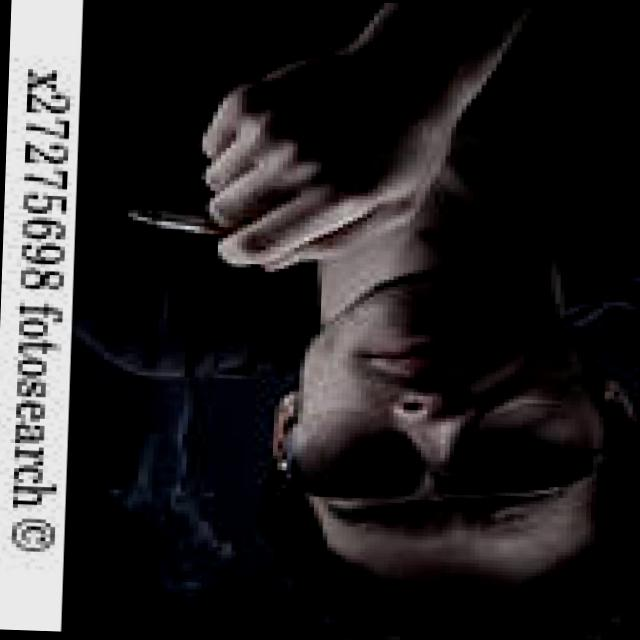cigarette: (116, 200, 198, 242)
